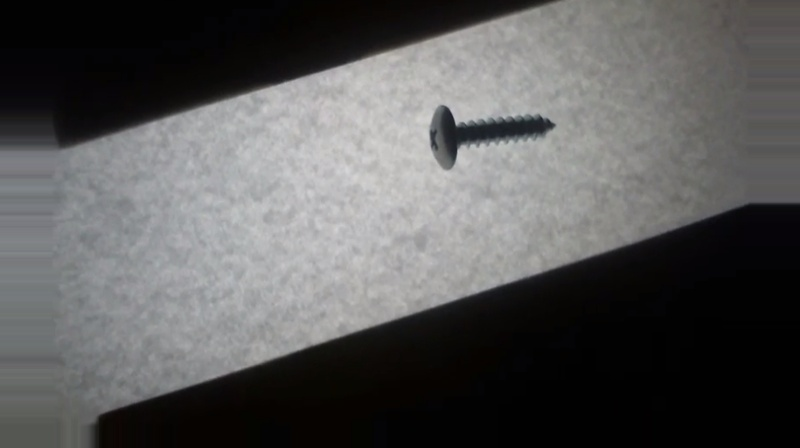S003: (426, 102, 559, 172)
